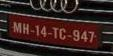1: (34, 23, 39, 35)
4: (79, 29, 87, 41), (40, 24, 46, 37)
7: (87, 30, 95, 42)
9: (72, 29, 79, 40)
C: (58, 27, 66, 39)
H: (21, 21, 29, 34)
M: (12, 20, 21, 32)
T: (50, 25, 58, 38)
